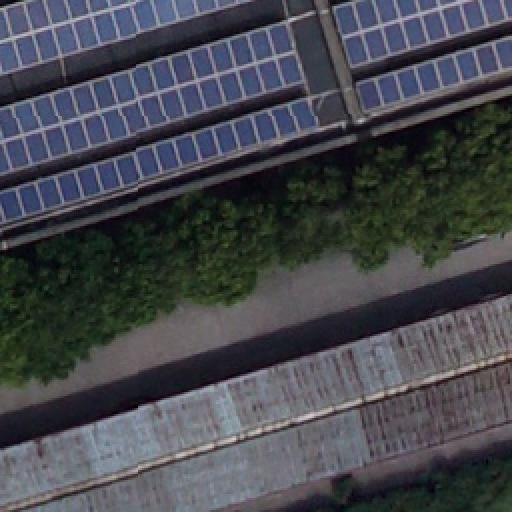solar-panel: (1, 21, 311, 179), (0, 96, 320, 228), (0, 1, 252, 79), (332, 1, 512, 71), (353, 33, 511, 111)
